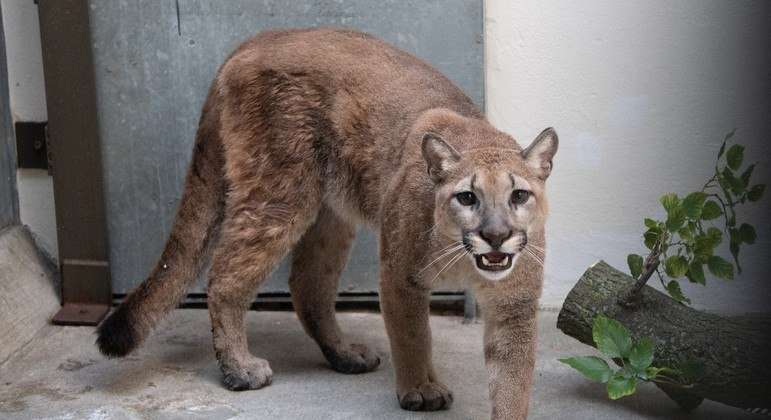OncaParda: (89, 22, 567, 412)
